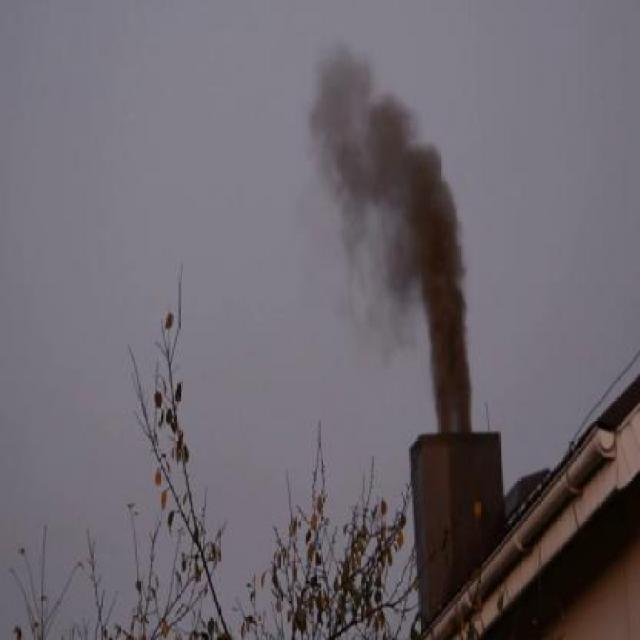smoke: (315, 49, 508, 434)
